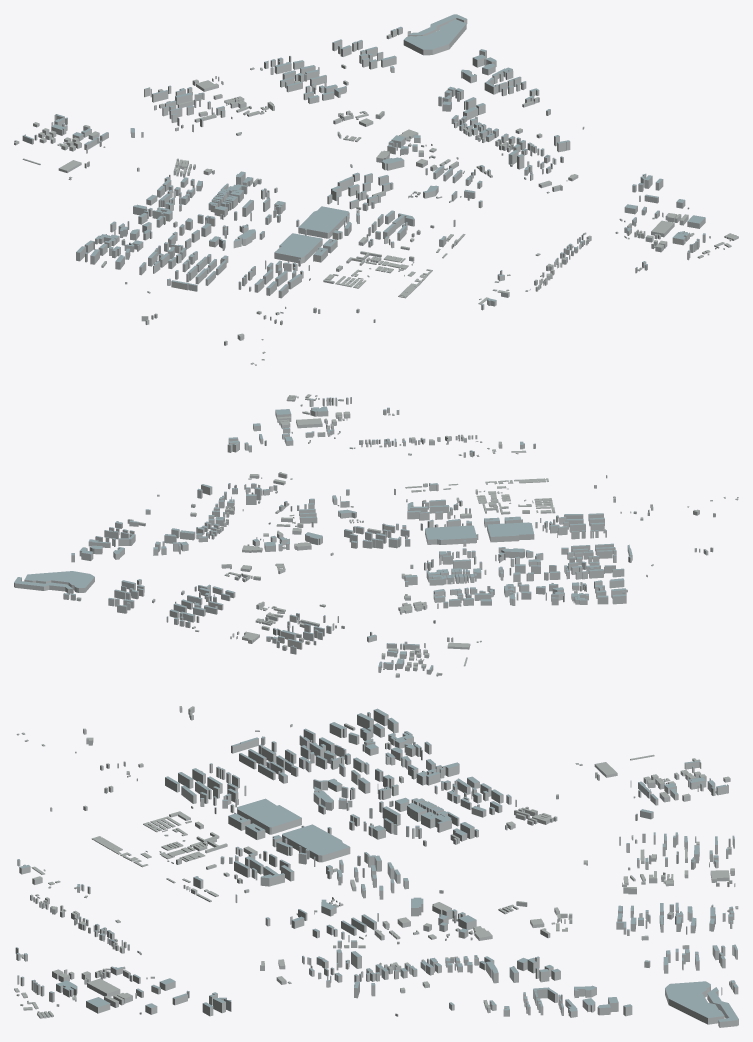
File: far.glb
3 renders of one model, top to bottom at view 1: azimuth 30°, elevation 25°; view 2: azimuth 150°, elevation 25°; view 3: azimuth 270°, elevation 25°, orthographic. The views are drawn at different scales.
Size of the model in its own units: 2172 by 47.29 by 2101.
